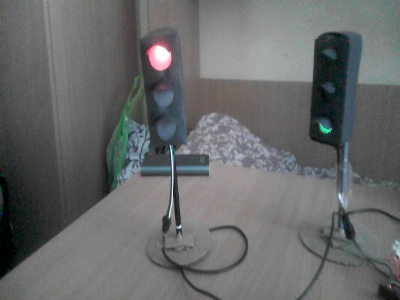trafficlight_green: (310, 36, 348, 142)
trafficlight_red: (142, 39, 184, 143)
